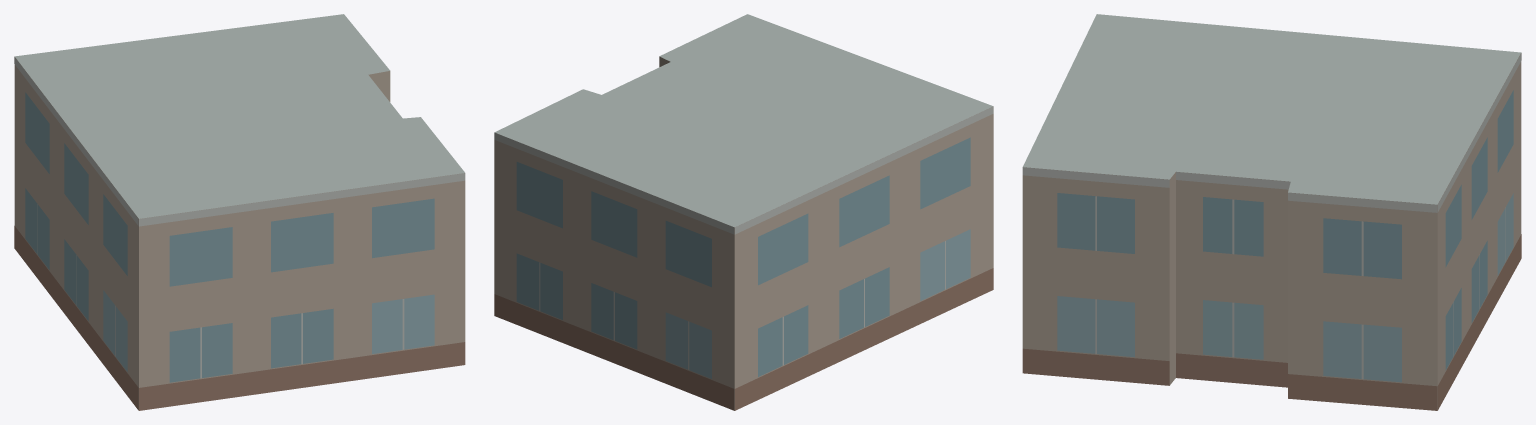
Rendered from survey-upis-32914961.glb.
3 renders of one model, left to right at view 1: azimuth 30°, elevation 25°; view 2: azimuth 150°, elevation 25°; view 3: azimuth 270°, elevation 25°, orthographic. The views are drawn at different scales.
Parts seen in each view (by area): view 1: survey-upis-32914961.tmp; view 2: survey-upis-32914961.tmp; view 3: survey-upis-32914961.tmp.
Boxes of the visible parts, x1,y1,x2,y2 form: survey-upis-32914961.tmp: (14,14,465,410); survey-upis-32914961.tmp: (494,14,993,410); survey-upis-32914961.tmp: (1022,14,1521,410).
Bounding box in the file's own units: 12.11 × 6.1 × 13.38.
